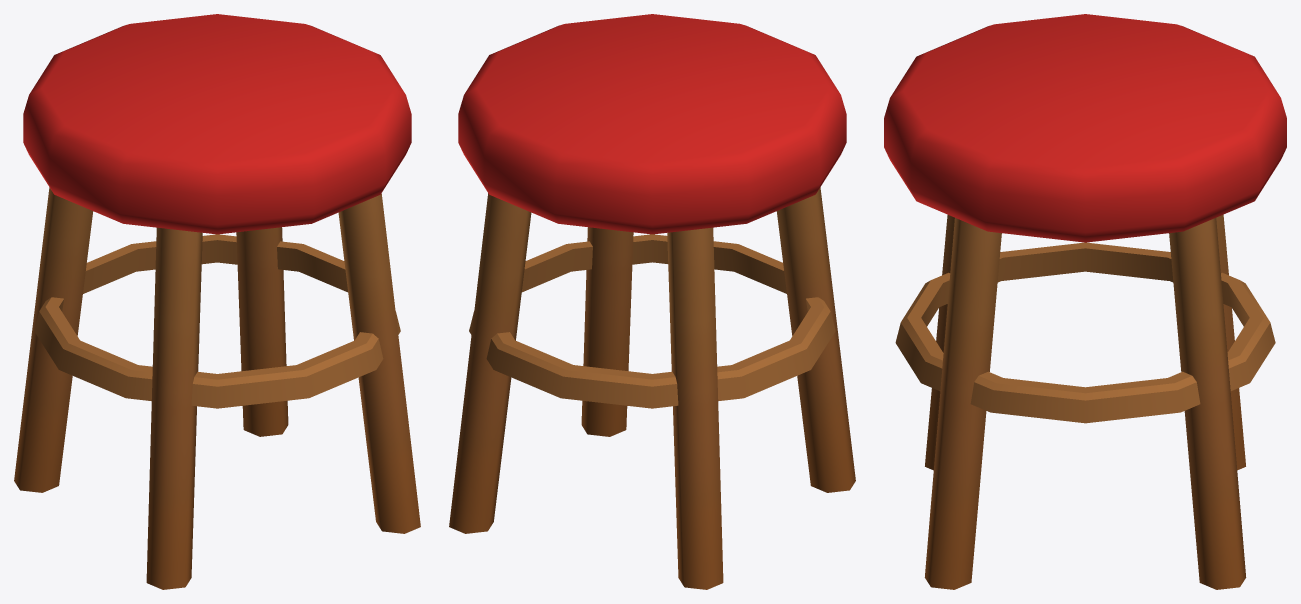
File: Chair_1_A.fbx
3 views of the same model, side by side, from view 1: azimuth 30°, elevation 25°; view 2: azimuth 150°, elevation 25°; view 3: azimuth 270°, elevation 25° (orthographic). The views are drawn at different scales.
Visible parts, largest first — view 1: Chair_1_A; view 2: Chair_1_A; view 3: Chair_1_A.
Boxes of the visible parts, x1,y1,x2,y2 form: Chair_1_A: (14,14,420,589); Chair_1_A: (449,14,855,589); Chair_1_A: (884,14,1286,589).
Size of the model in its own units: 50.02 by 59.1 by 50.04.
